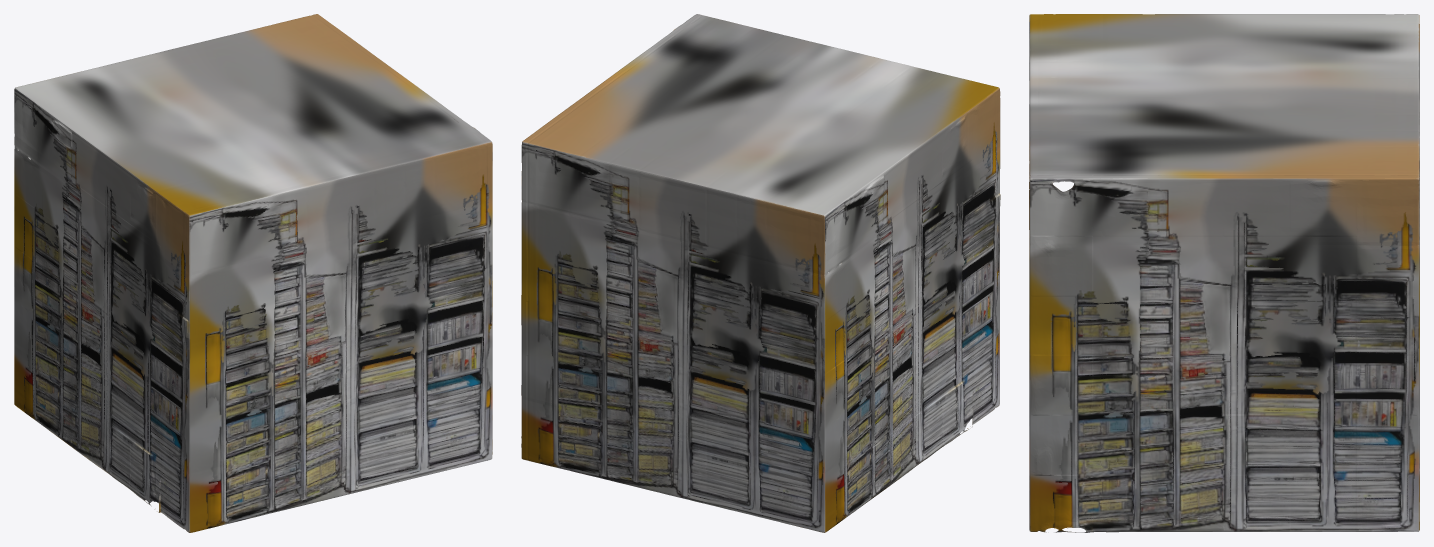
The model's file is shelf.glb.
The picture shows the model from 3 angles, left to right: view 1: azimuth 30°, elevation 25°; view 2: azimuth 150°, elevation 25°; view 3: azimuth 270°, elevation 25°; orthographic projection. The views are drawn at different scales.
Parts seen in each view (by area): view 1: shelf; view 2: shelf; view 3: shelf.
Boxes of the visible parts, x1,y1,x2,y2 form: shelf: (14,14,492,532); shelf: (521,14,1000,532); shelf: (1029,14,1419,532).
Bounding box in the file's own units: 0.5302 × 0.5249 × 0.525.
1 material, 1 textured.
